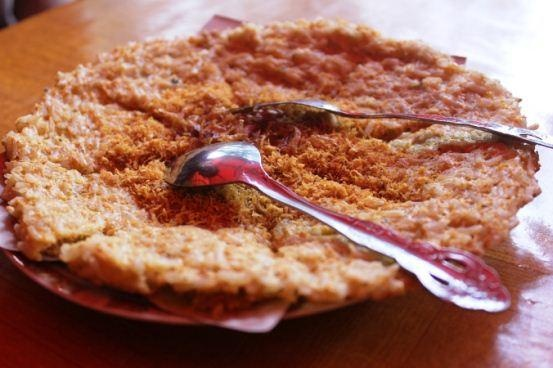kerak_telor: (8, 20, 541, 303)
